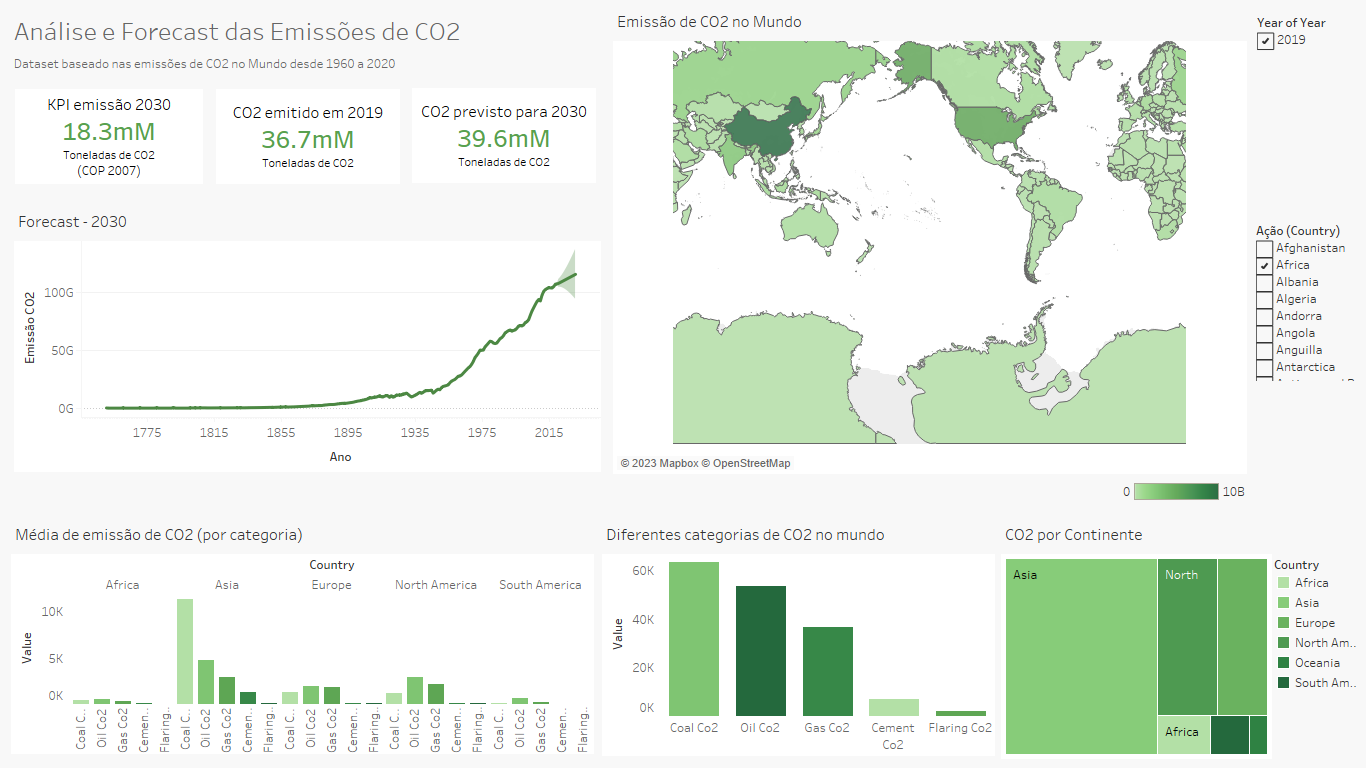

Layout of this report page (visuals, bound fields, positions):
{"tool":"tableau","page":{"name":"Dashboard 3","canvas":[1366,768],"ordinal":0},"visuals":[{"type":"worksheet","title":"Mapa Mundo","mark":"Multipolygon","box":[613,5,633,468]},{"type":"text","box":[11,8,567,45]},{"type":"text","box":[11,45,568,36]},{"type":"text","box":[412,88,184,95]},{"type":"text","box":[15,89,188,95]},{"type":"text","box":[216,89,184,95]},{"type":"worksheet","title":"Forecast","mark":"Automatic","rows":["CO2"],"cols":["year"],"box":[14,205,586,267]},{"type":"legend","title":"Mapa Mundo","param":"[federated.1ebf6wq0d6tpgj19q3xae1e9pnkz].[sum:CO2:qk]","box":[1119,479,131,26]},{"type":"worksheet","title":"Planilha 5","mark":"Bar","cols":["country"],"box":[11,518,582,236]},{"type":"worksheet","title":"Planilha 10","mark":"Automatic","box":[602,518,392,238]},{"type":"legend","title":"C02 continente","param":"[federated.1ebf6wq0d6tpgj19q3xae1e9pnkz].[none:country:nk]","box":[1273,554,87,203]}]}

Visuals, with their boxes in screenshot pixels (x1, y1, x2, y2), scaled from the page's 1366x768 canvas onto the 1366x768 screenshot:
"Mapa Mundo" worksheet (Multipolygon marks): bbox=[613, 5, 1246, 473]
text: bbox=[11, 8, 578, 53]
text: bbox=[11, 45, 579, 81]
text: bbox=[412, 88, 596, 183]
text: bbox=[15, 89, 203, 184]
text: bbox=[216, 89, 400, 184]
"Forecast" worksheet: bbox=[14, 205, 600, 472]
"Mapa Mundo" legend: bbox=[1119, 479, 1250, 505]
"Planilha 5" worksheet (Bar marks): bbox=[11, 518, 593, 754]
"Planilha 10" worksheet: bbox=[602, 518, 994, 756]
"C02 continente" legend: bbox=[1273, 554, 1360, 757]
